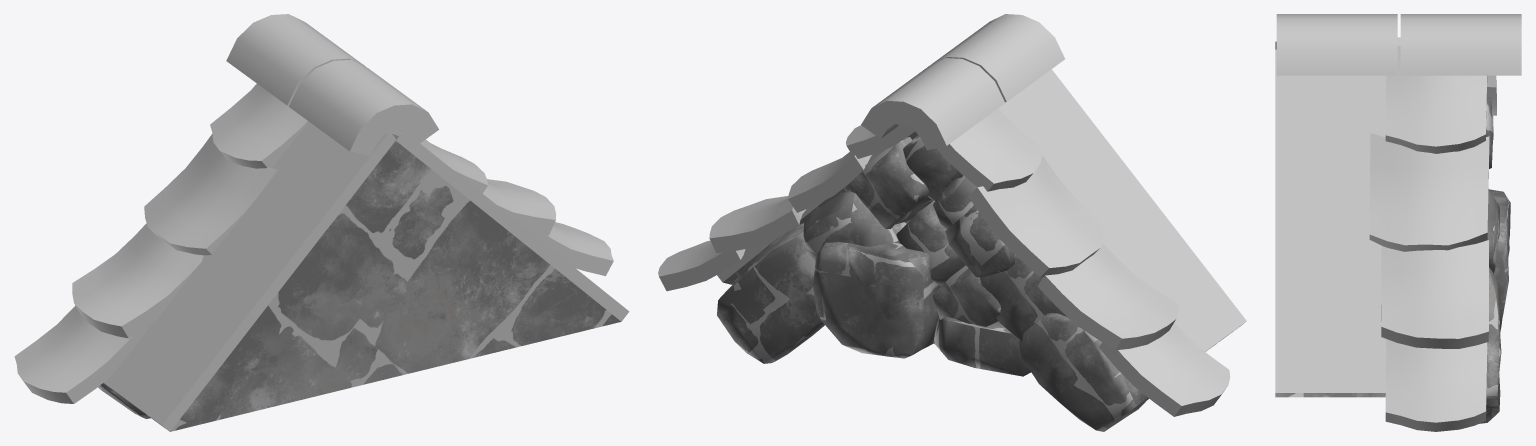
The model's file is Roof_Top_02_Right.fbx.
The picture shows the model from 3 angles, left to right: view 1: azimuth 30°, elevation 25°; view 2: azimuth 150°, elevation 25°; view 3: azimuth 270°, elevation 25°; orthographic projection. The views are drawn at different scales.
Visible parts, largest first — view 1: Plane.058, Plane.054; view 2: Plane.058, rock_1.002; view 3: Plane.058, rock_1.002, Plane.054.
Boxes of the visible parts, left/top/right/bottom form: Plane.058: left=14, top=14, right=629, bottom=431; Plane.054: left=103, top=141, right=621, bottom=431; Plane.058: left=658, top=14, right=1246, bottom=416; rock_1.002: left=717, top=135, right=1149, bottom=431; Plane.058: left=1275, top=14, right=1521, bottom=431; rock_1.002: left=1479, top=95, right=1510, bottom=423; Plane.054: left=1275, top=393, right=1385, bottom=397.
Bounding box in the file's own units: 3.85 × 2.08 × 1.43.
